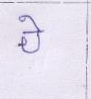e_matra: (19, 15, 44, 30)
